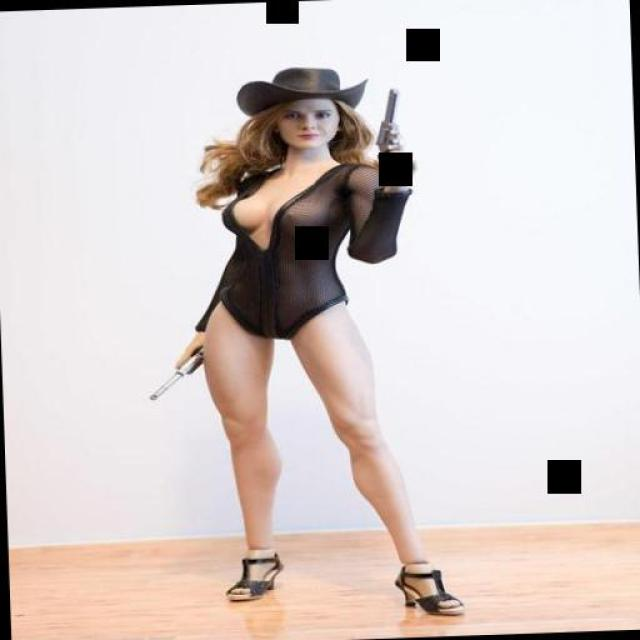gun: (361, 81, 424, 179), (138, 342, 222, 407)
